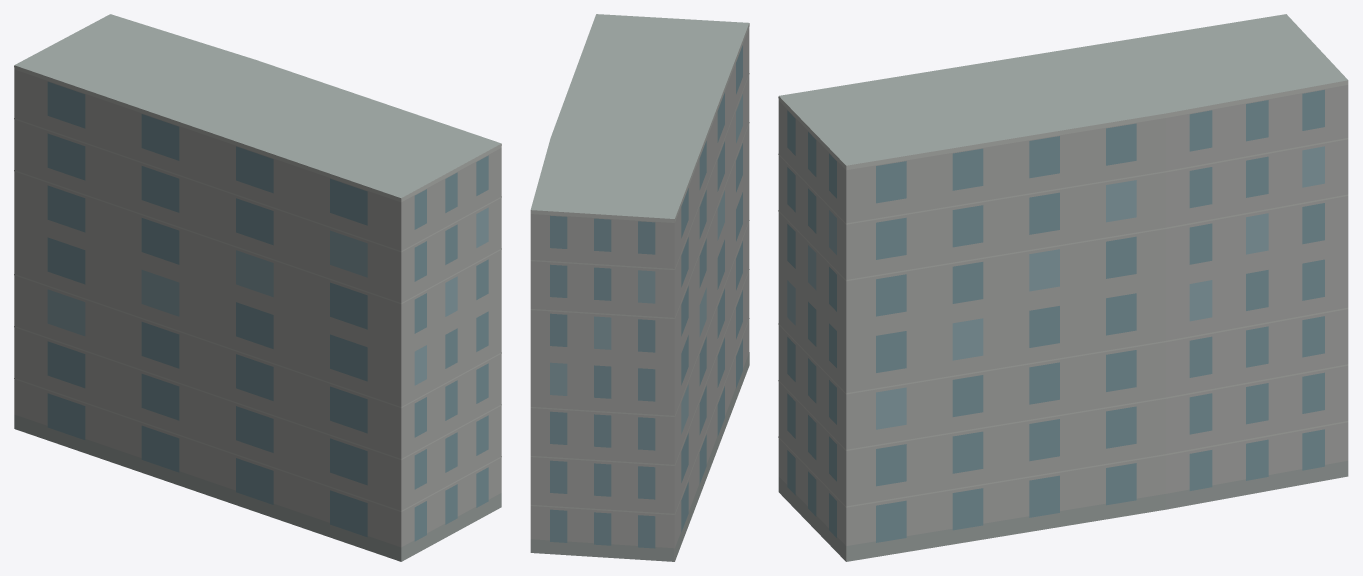
The model's file is survey-upis-32514159.glb.
3 views of the same model, side by side, from view 1: azimuth 30°, elevation 25°; view 2: azimuth 150°, elevation 25°; view 3: azimuth 270°, elevation 25° (orthographic). The views are drawn at different scales.
Visible parts, largest first — view 1: survey-upis-32514159.tmp; view 2: survey-upis-32514159.tmp; view 3: survey-upis-32514159.tmp.
Boxes of the visible parts, x1,y1,x2,y2 form: survey-upis-32514159.tmp: (14,14,501,561); survey-upis-32514159.tmp: (530,14,749,561); survey-upis-32514159.tmp: (778,14,1348,561).
Bounding box in the file's own units: 17.56 × 21.35 × 27.85.
